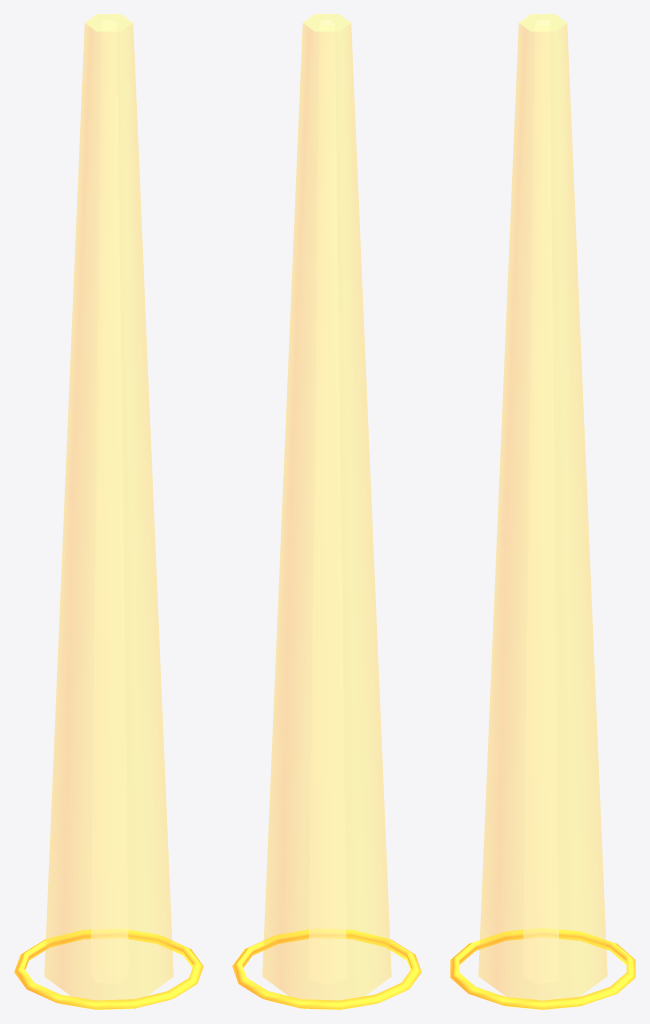
File: fx_loot_beam_legendary.glb
3 renders of one model, left to right at view 1: azimuth 30°, elevation 25°; view 2: azimuth 150°, elevation 25°; view 3: azimuth 270°, elevation 25°, orthographic.
Visible parts, largest first — view 1: beam_lootBeam, beam_lootCore, ring_lootRing; view 2: beam_lootBeam, beam_lootCore, ring_lootRing; view 3: beam_lootBeam, beam_lootCore, ring_lootRing.
Part boxes in pixels (left/top/right/bottom): beam_lootBeam: left=44, top=14, right=173, bottom=999; beam_lootCore: left=91, top=19, right=128, bottom=983; ring_lootRing: left=14, top=929, right=203, bottom=1009; beam_lootBeam: left=262, top=14, right=391, bottom=999; beam_lootCore: left=309, top=20, right=346, bottom=984; ring_lootRing: left=232, top=929, right=421, bottom=1009; beam_lootBeam: left=478, top=14, right=607, bottom=999; beam_lootCore: left=523, top=19, right=558, bottom=983; ring_lootRing: left=450, top=928, right=635, bottom=1009.
Size of the model in its own units: 0.47 by 2.6 by 0.4582.
